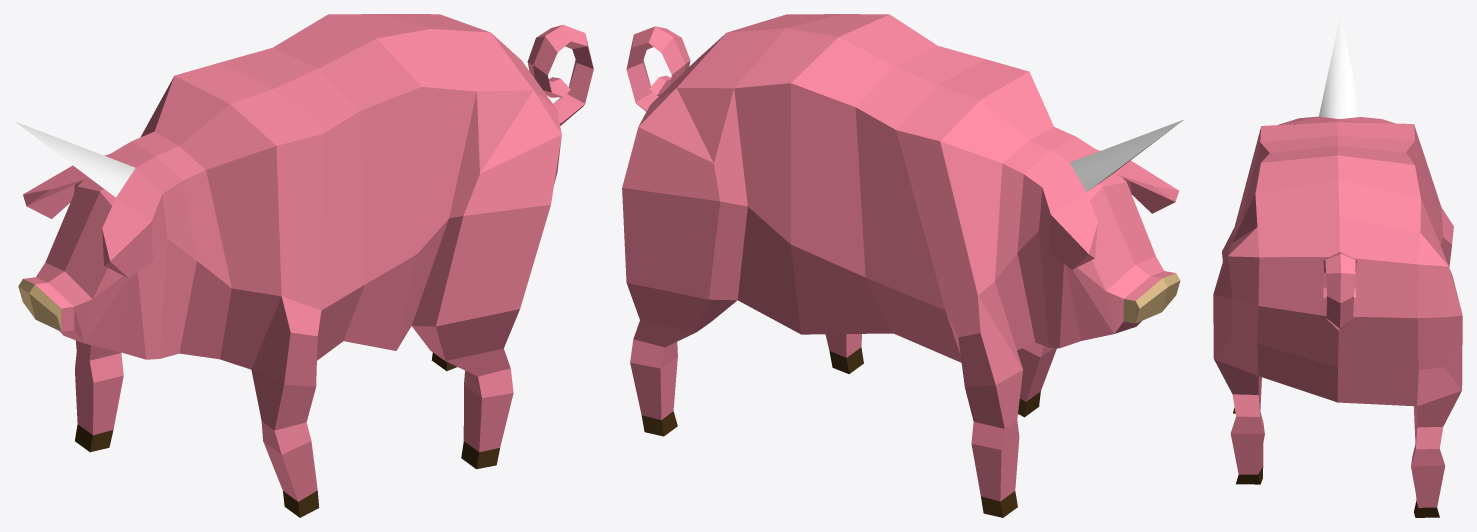
Rendered from pigWalking15.obj.
3 renders of one model, left to right at view 1: azimuth 30°, elevation 25°; view 2: azimuth 150°, elevation 25°; view 3: azimuth 270°, elevation 25°, orthographic. The views are drawn at different scales.
Parts seen in each view (by area): view 1: Pig_Cylinder; view 2: Pig_Cylinder; view 3: Pig_Cylinder.
Boxes of the visible parts, x1,y1,x2,y2 form: Pig_Cylinder: [15, 14, 593, 517]; Pig_Cylinder: [622, 14, 1183, 517]; Pig_Cylinder: [1213, 15, 1462, 517].
Size of the model in its own units: 23.3 by 15.46 by 11.11.
